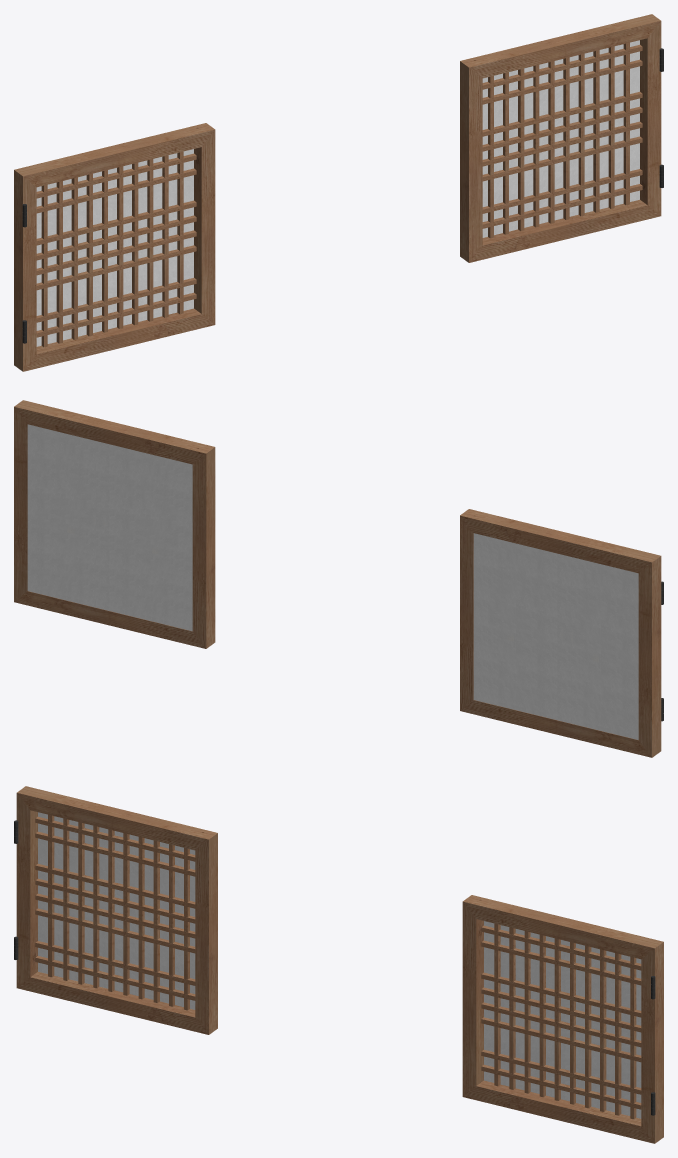
File: SM_Yeonkyung_O_Haenggak_Win_D_001.fbx
3 views of the same model, one above another, from view 1: azimuth 30°, elevation 25°; view 2: azimuth 150°, elevation 25°; view 3: azimuth 330°, elevation 25° (orthographic).
Parts seen in each view (by area): view 1: SM_Yeonkyung_O_Haenggak_Win_D_001; view 2: SM_Yeonkyung_O_Haenggak_Win_D_001; view 3: SM_Yeonkyung_O_Haenggak_Win_D_001.
Boxes of the visible parts, x1,y1,x2,y2 form: SM_Yeonkyung_O_Haenggak_Win_D_001: (14, 14, 663, 371); SM_Yeonkyung_O_Haenggak_Win_D_001: (14, 400, 663, 757); SM_Yeonkyung_O_Haenggak_Win_D_001: (14, 786, 663, 1143).
Bounding box in the file's own units: 203 × 59.12 × 6.2.
